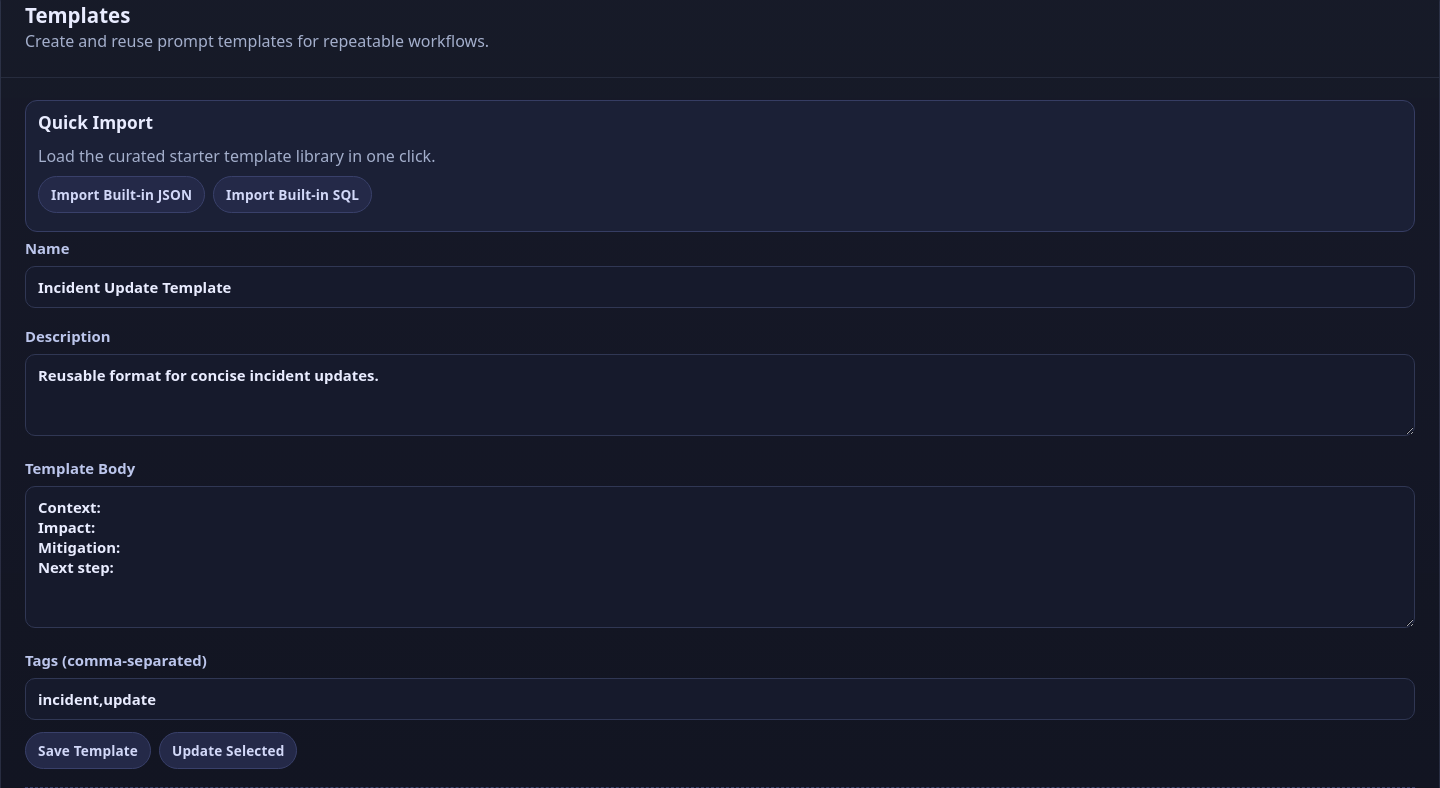
knowledge and templates workflow › imports built-in templates via JSON
Click the button "Import Built-in JSON" at (122, 194), box x1=38 y1=176 x2=205 y2=213
(page scrolled)
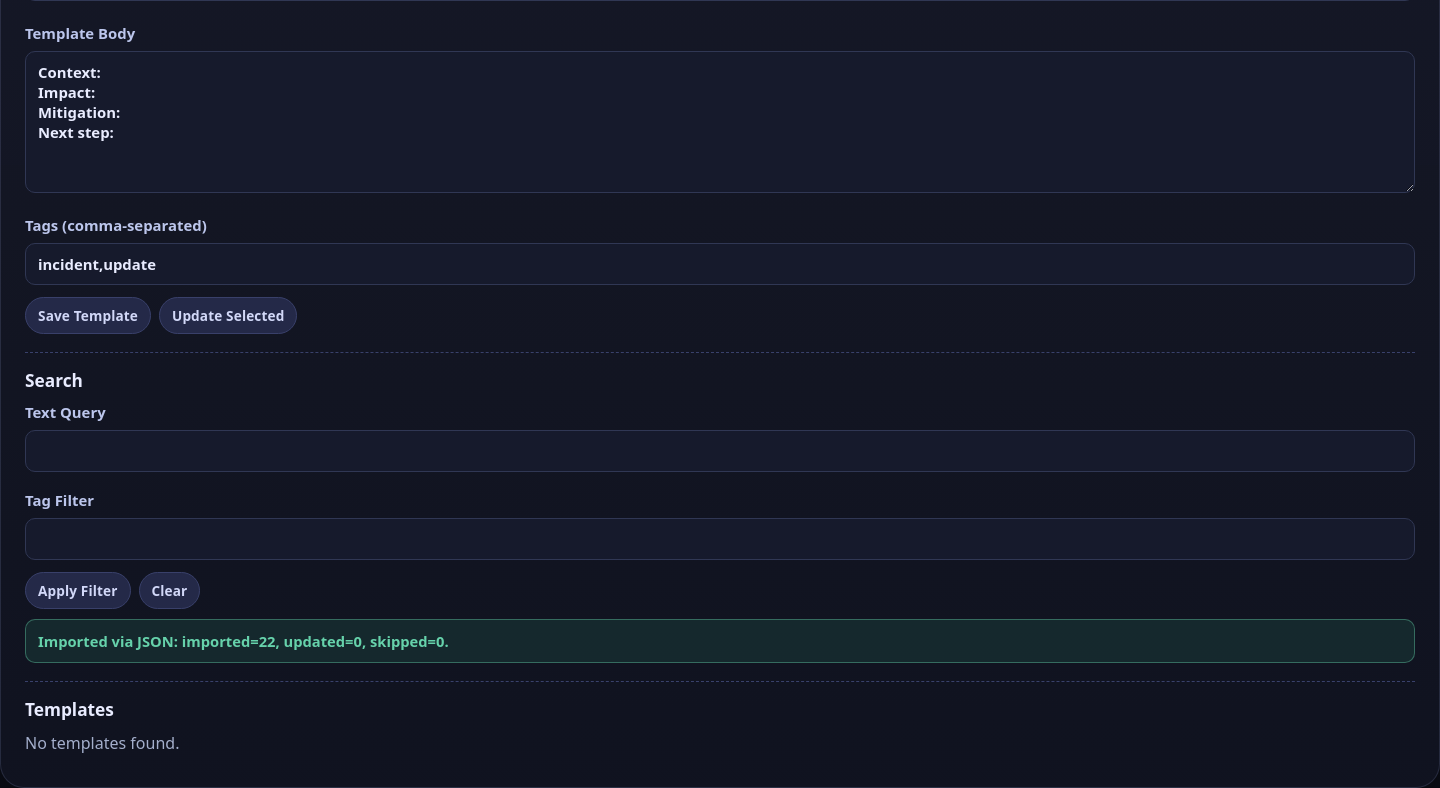
Expected: the text "Imported via JSON: imported=22, updated=0, skipped=0." is shown, x1=25 y1=619 x2=1415 y2=663
